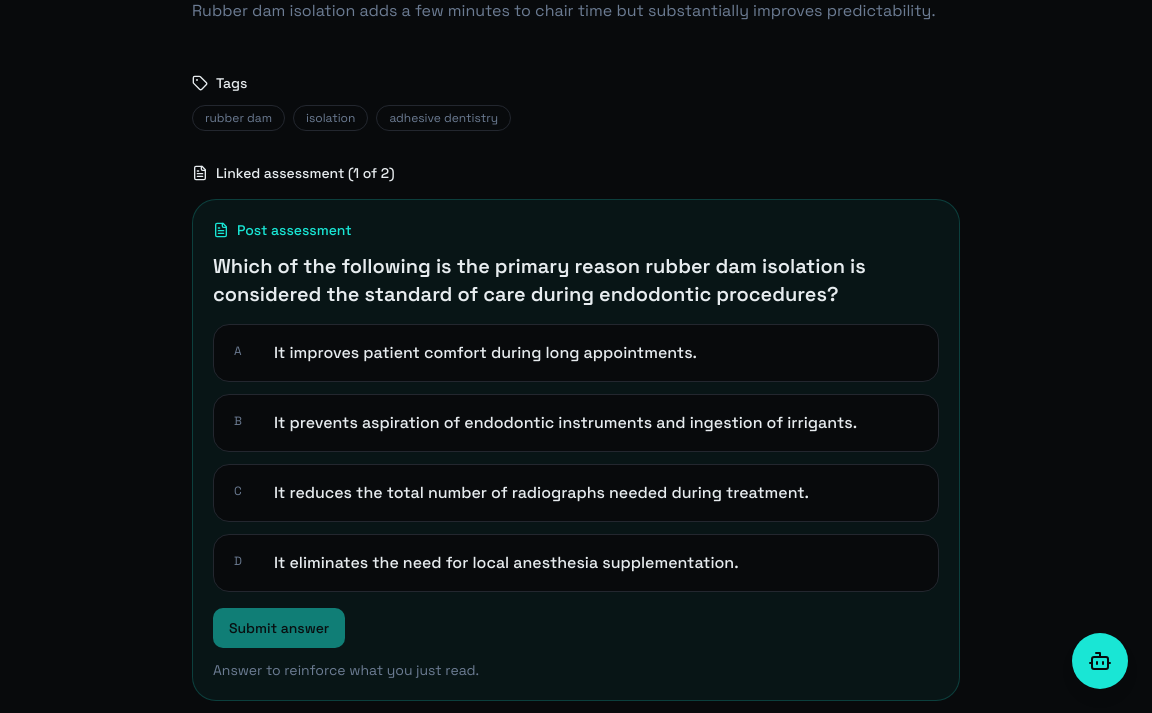
Test: clinical posts › records incorrect answer and shows explanation
This screenshot has width=1152, height=713.
(page scrolled)
Check: the heading "primary reason rubber dam isolation" is shown, box [213,253,866,307]
Click the button "A It improves patient comfort during long appointments.": (576, 353) [213,324,939,382]
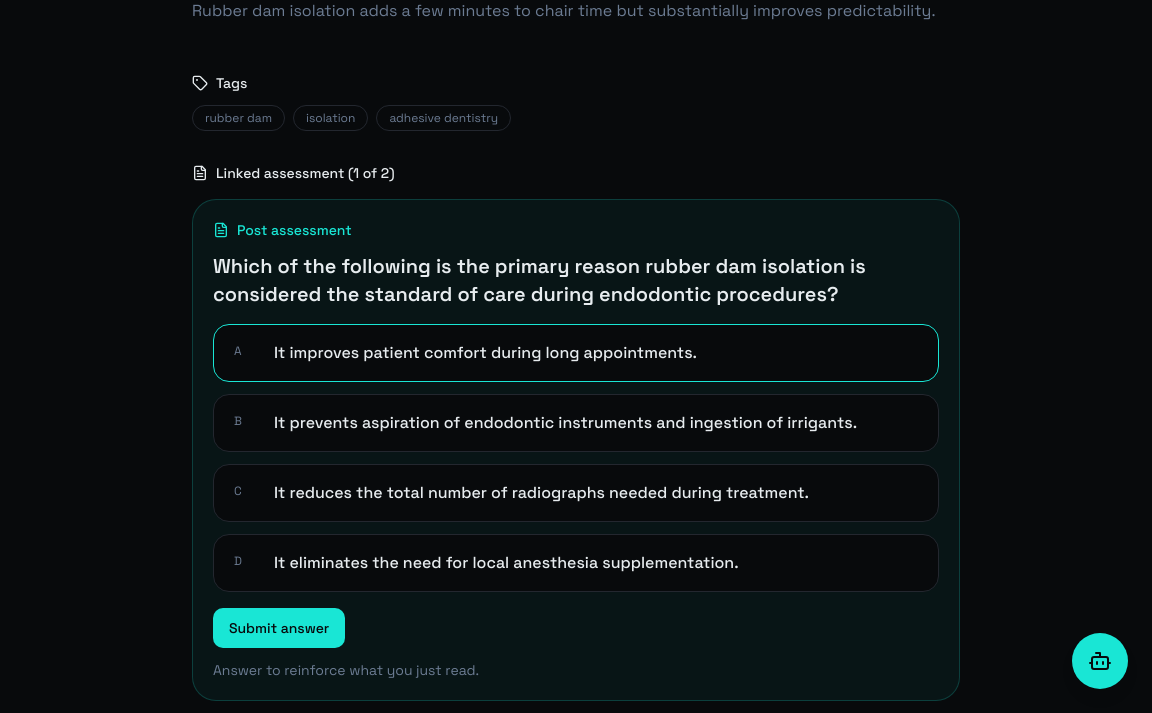
Click the button "Submit answer": (279, 628) [213,608,345,648]
(page scrolled)
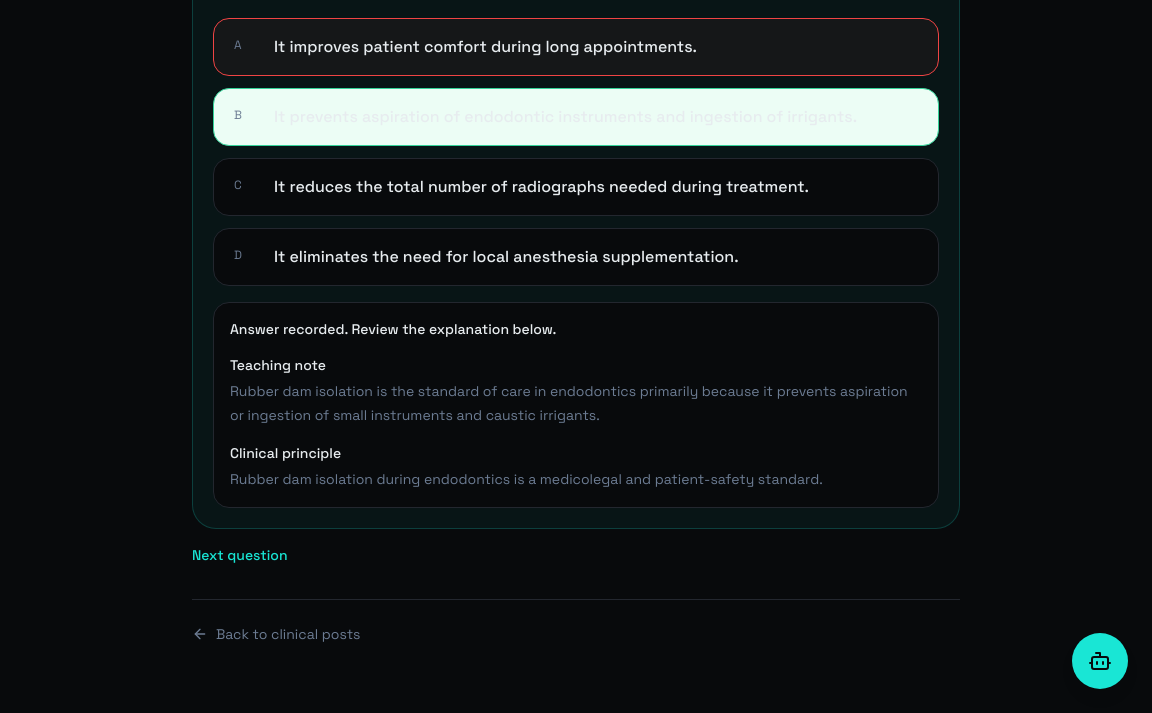
Check: the text "Answer recorded. Review the explanation below." is shown, box [230,320,556,338]
Check: the text "prevents aspiration or ingestion" is shown, box [230,382,908,424]
